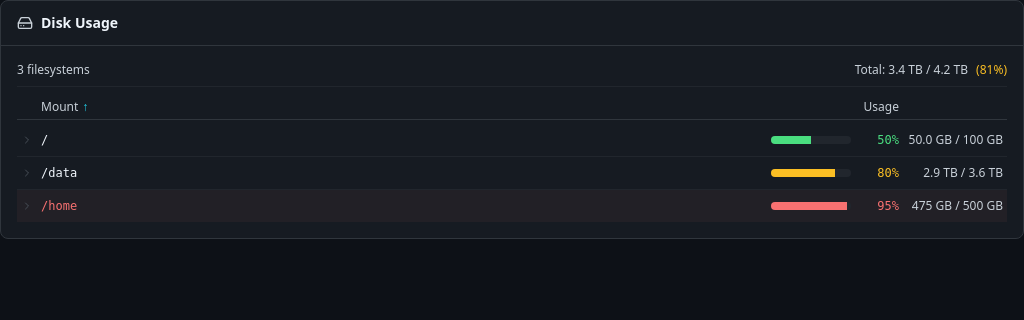
Test: DiskWidget › Expandable details (US0168 AC5) › expands filesystem to show details on click
Click to expand
Click the button with test id "expand-/": (811, 140) 17,124 -> 1007,156
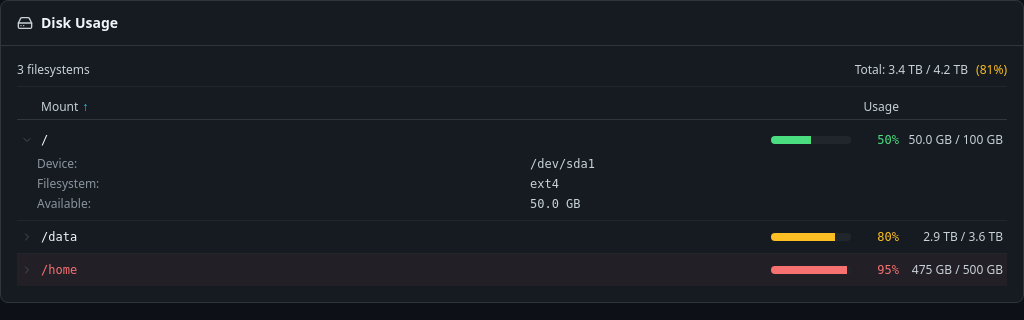
Check: the element with test id "details-/" is shown, box 37,155 -> 595,212
Check: the element with test id "details-/" shows "/dev/sda1", box 530,157 -> 595,171
Check: the element with test id "details-/" shows "ext4", box 530,177 -> 559,191
